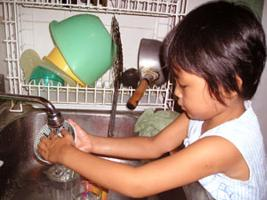person: (37, 1, 267, 200)
